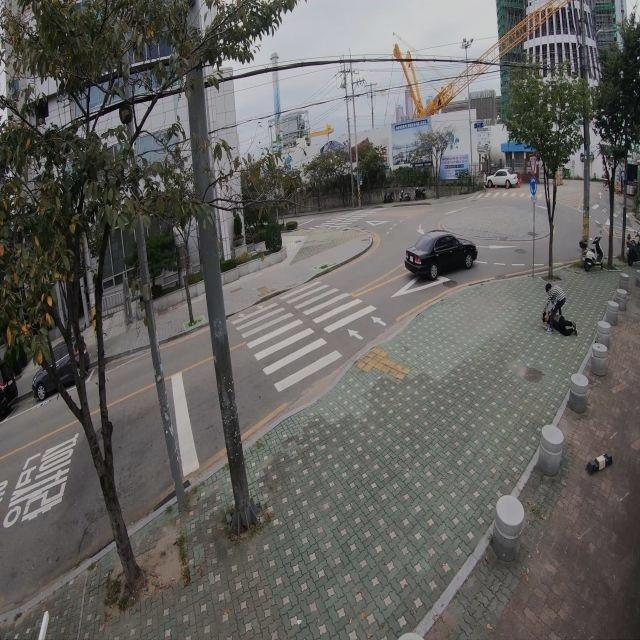fight: (534, 274, 580, 337)
